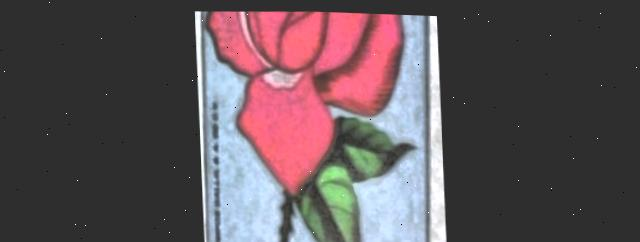La Rosa: (203, 9, 427, 242)
